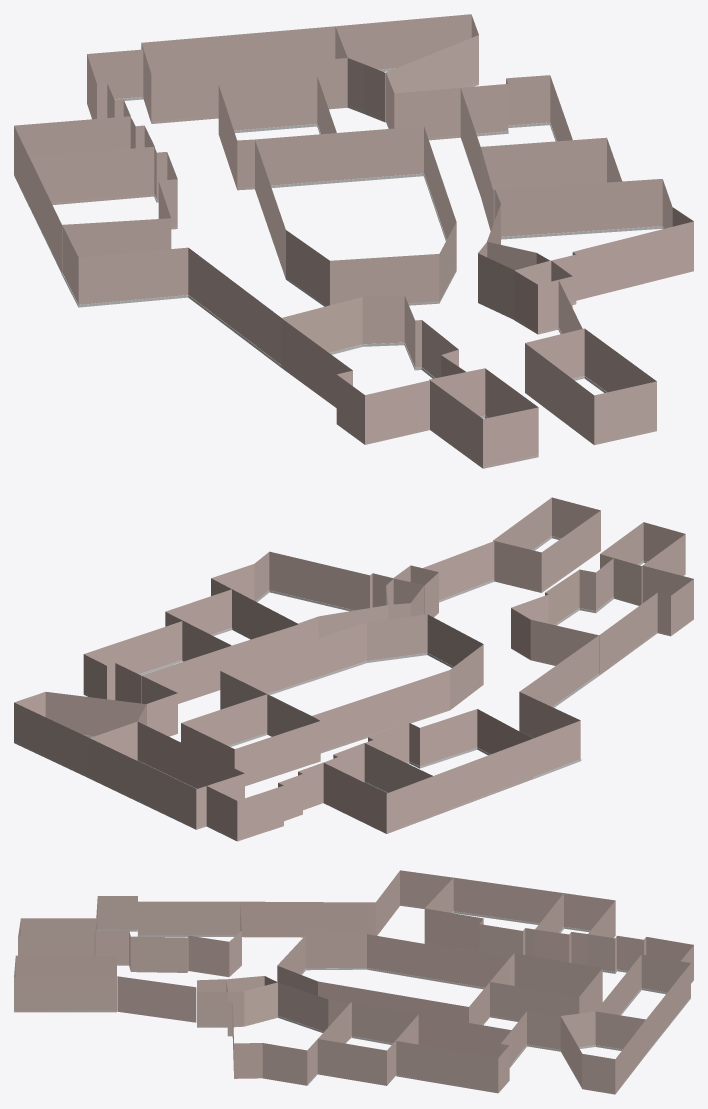
The model's file is EpitechMap.fbx.
3 views of the same model, one above another, from view 1: azimuth 30°, elevation 25°; view 2: azimuth 150°, elevation 25°; view 3: azimuth 270°, elevation 25° (orthographic). The views are drawn at different scales.
Visible parts, largest first — view 1: Knuth, Turing, Tesla, Hamilton, Easley, Fei-Fei, Patterson, Wall Cray > Tesla, Bouman, Room, Pascal, Cray (+8 smaller); view 2: Knuth, Tesla, Turing, Cray, Hamilton, Fei-Fei, Babbage, Patterson, Easley, Room, Wall Cray > Tesla, Wall Hamilton > Patterson (+7 smaller); view 3: Knuth, Tesla, Cray, Wall Cray > Tesla, Babbage, Turing, Easley, Room, Fei-Fei, Pascal, Hamilton, Patterson (+8 smaller).
Part boxes in pixels (box(x1,y1,x2,y2)): Knuth: box(255, 126, 456, 306); Turing: box(487, 179, 693, 304); Tesla: box(281, 295, 465, 444); Hamilton: box(141, 26, 347, 123); Easley: box(525, 328, 656, 444); Fei-Fei: box(335, 14, 478, 122); Patterson: box(14, 116, 154, 205); Wall Cray > Tesla: box(62, 226, 281, 364); Bouman: box(429, 368, 538, 468); Room: box(218, 76, 336, 190); Pascal: box(480, 137, 622, 230); Cray: box(29, 147, 177, 272); Knuth: box(220, 614, 483, 753); Tesla: box(511, 558, 693, 675); Turing: box(211, 551, 392, 644); Cray: box(364, 709, 532, 816); Hamilton: box(89, 721, 244, 829); Fei-Fei: box(14, 691, 146, 778); Babbage: box(83, 621, 232, 703); Patterson: box(323, 743, 433, 833); Easley: box(493, 497, 600, 592); Room: box(181, 694, 320, 786); Wall Cray > Tesla: box(519, 635, 598, 776); Wall Hamilton > Patterson: box(206, 762, 323, 841); Knuth: box(277, 934, 509, 1024); Tesla: box(95, 896, 241, 976); Cray: box(424, 877, 564, 957); Wall Cray > Tesla: box(239, 870, 453, 937); Babbage: box(396, 1014, 511, 1093); Turing: box(227, 982, 350, 1085); Easley: box(14, 955, 116, 1012); Room: box(490, 953, 602, 1021); Fei-Fei: box(560, 1011, 645, 1094); Pascal: box(317, 1002, 418, 1085); Hamilton: box(595, 954, 690, 1054); Patterson: box(535, 893, 615, 965).
Size of the model in its own units: 2743 by 240 by 4171.
